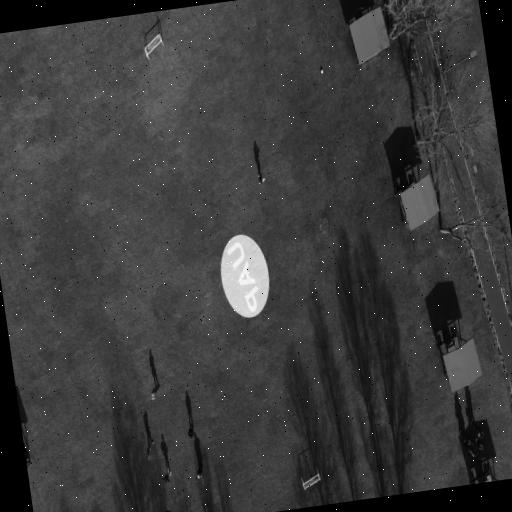UAP: (221, 235, 269, 318)
person: (460, 428, 473, 445), (472, 420, 484, 438), (146, 436, 154, 459), (162, 468, 171, 483), (151, 383, 160, 398), (466, 445, 477, 457), (188, 417, 194, 438), (476, 437, 484, 449), (196, 466, 203, 478), (258, 173, 264, 183), (166, 510, 172, 511)
